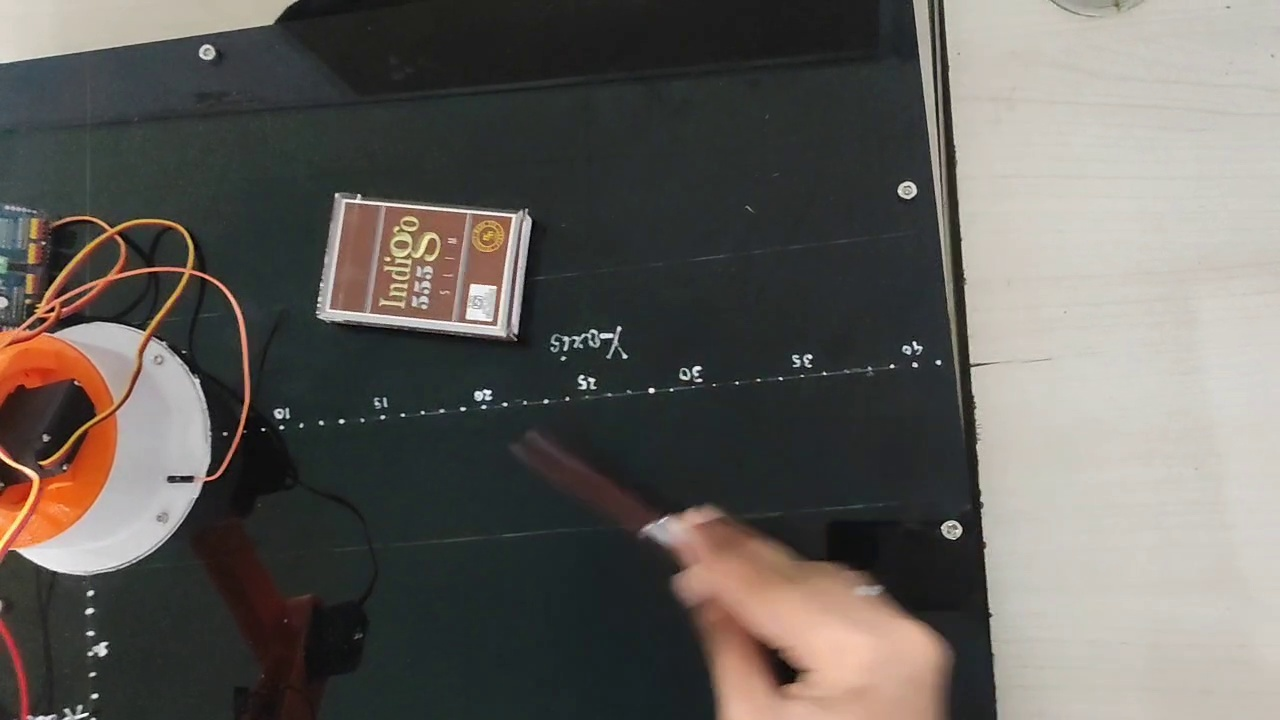BEX: (326, 203, 513, 326)
